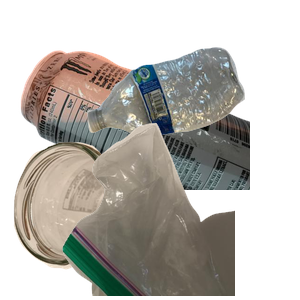glass: (11, 139, 179, 300)
metal: (18, 48, 258, 228)
plastic: (85, 45, 300, 175)
trash: (60, 120, 300, 300)
